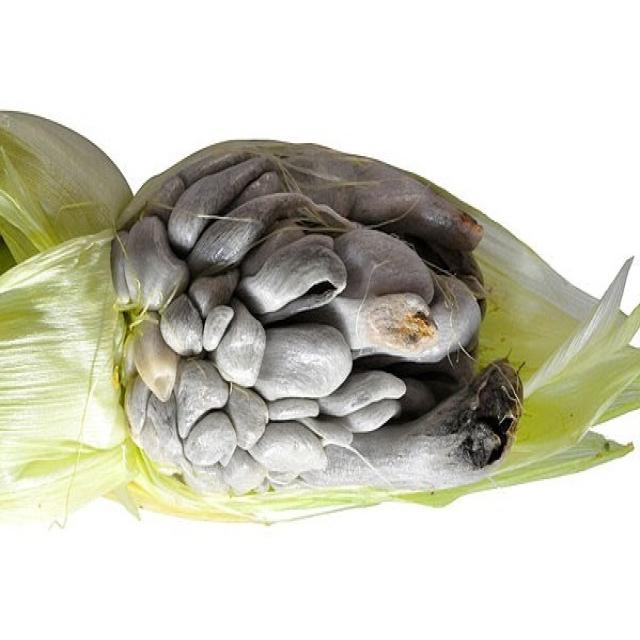Leaf_Scald: (95, 94, 584, 543)
